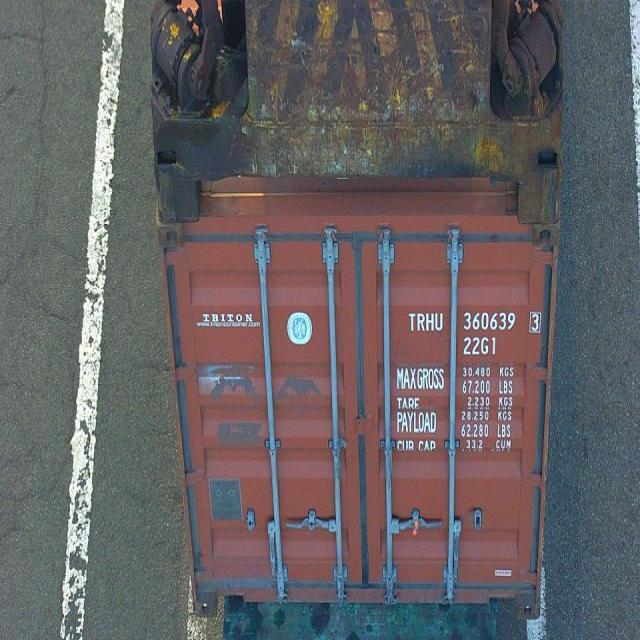ISO: (462, 336, 499, 357)
container_number: (407, 311, 541, 334)
